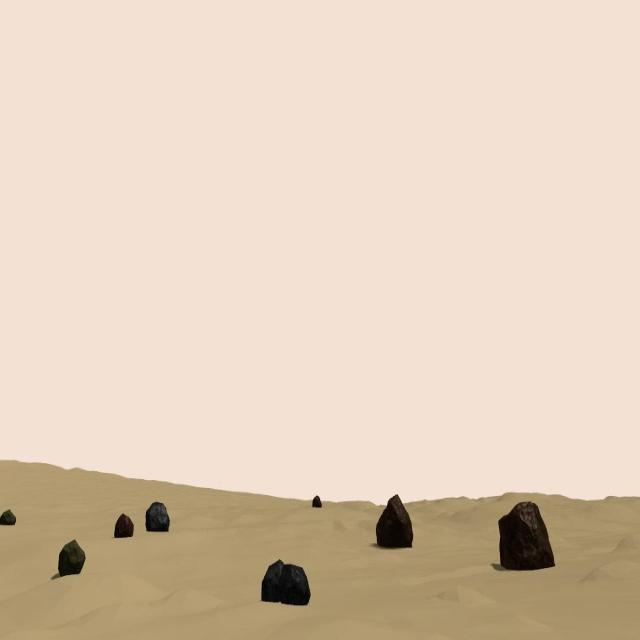rock: (497, 501, 555, 570), (375, 494, 413, 548), (277, 563, 311, 605), (58, 538, 85, 576), (262, 558, 283, 606), (146, 502, 170, 532), (113, 512, 134, 538), (1, 510, 16, 524), (312, 493, 322, 508)
